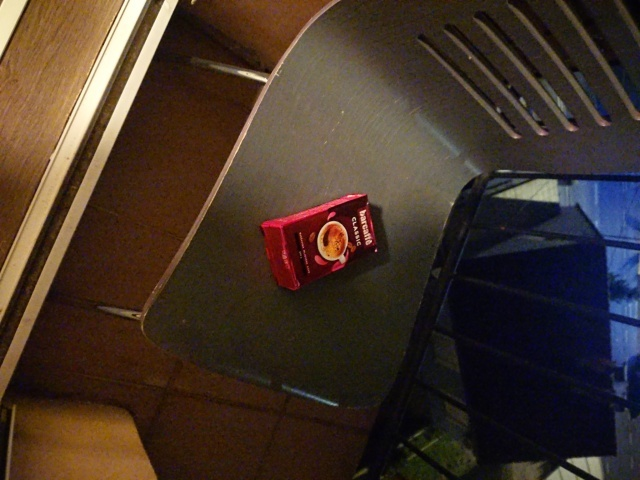Barcaffe Classic Original 225g: (257, 191, 380, 296)
